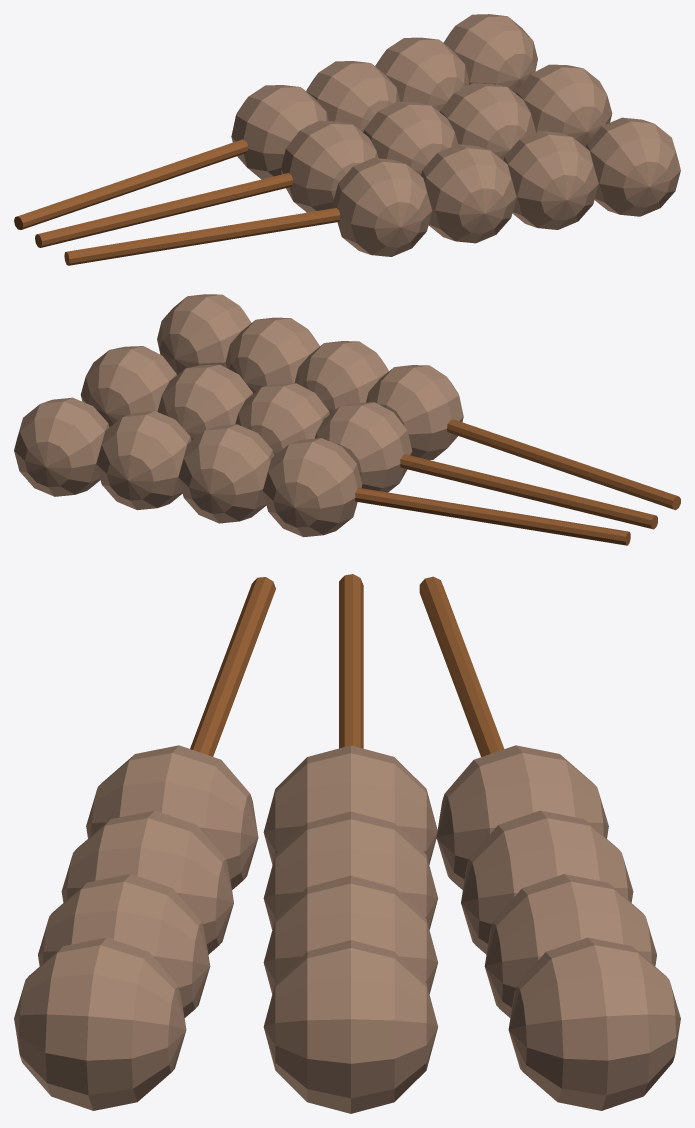
The model's file is CILOK.FBX.
The picture shows the model from 3 angles, top to bottom: view 1: azimuth 30°, elevation 25°; view 2: azimuth 150°, elevation 25°; view 3: azimuth 270°, elevation 25°; orthographic projection. The views are drawn at different scales.
Parts seen in each view (by area): view 1: cilok; view 2: cilok; view 3: cilok.
Boxes of the visible parts, x1,y1,x2,y2 form: cilok: [14, 14, 680, 265]; cilok: [14, 294, 680, 545]; cilok: [14, 574, 680, 1113].
Size of the model in its own units: 63.41 by 9.78 by 37.35.
